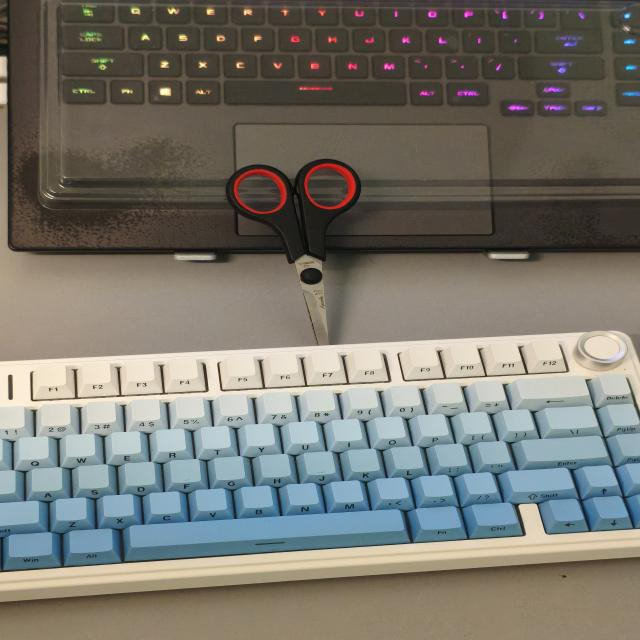scissor: (226, 159, 361, 345)
